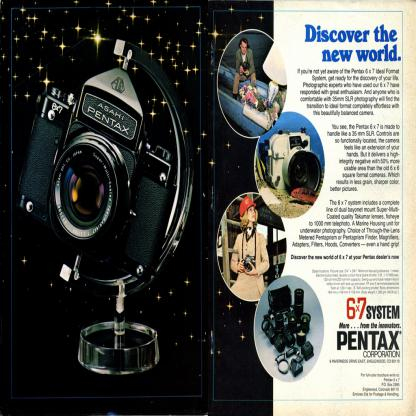Camera: (6, 44, 197, 360), (262, 287, 313, 373), (263, 128, 324, 199), (240, 256, 258, 274), (241, 63, 250, 78)
